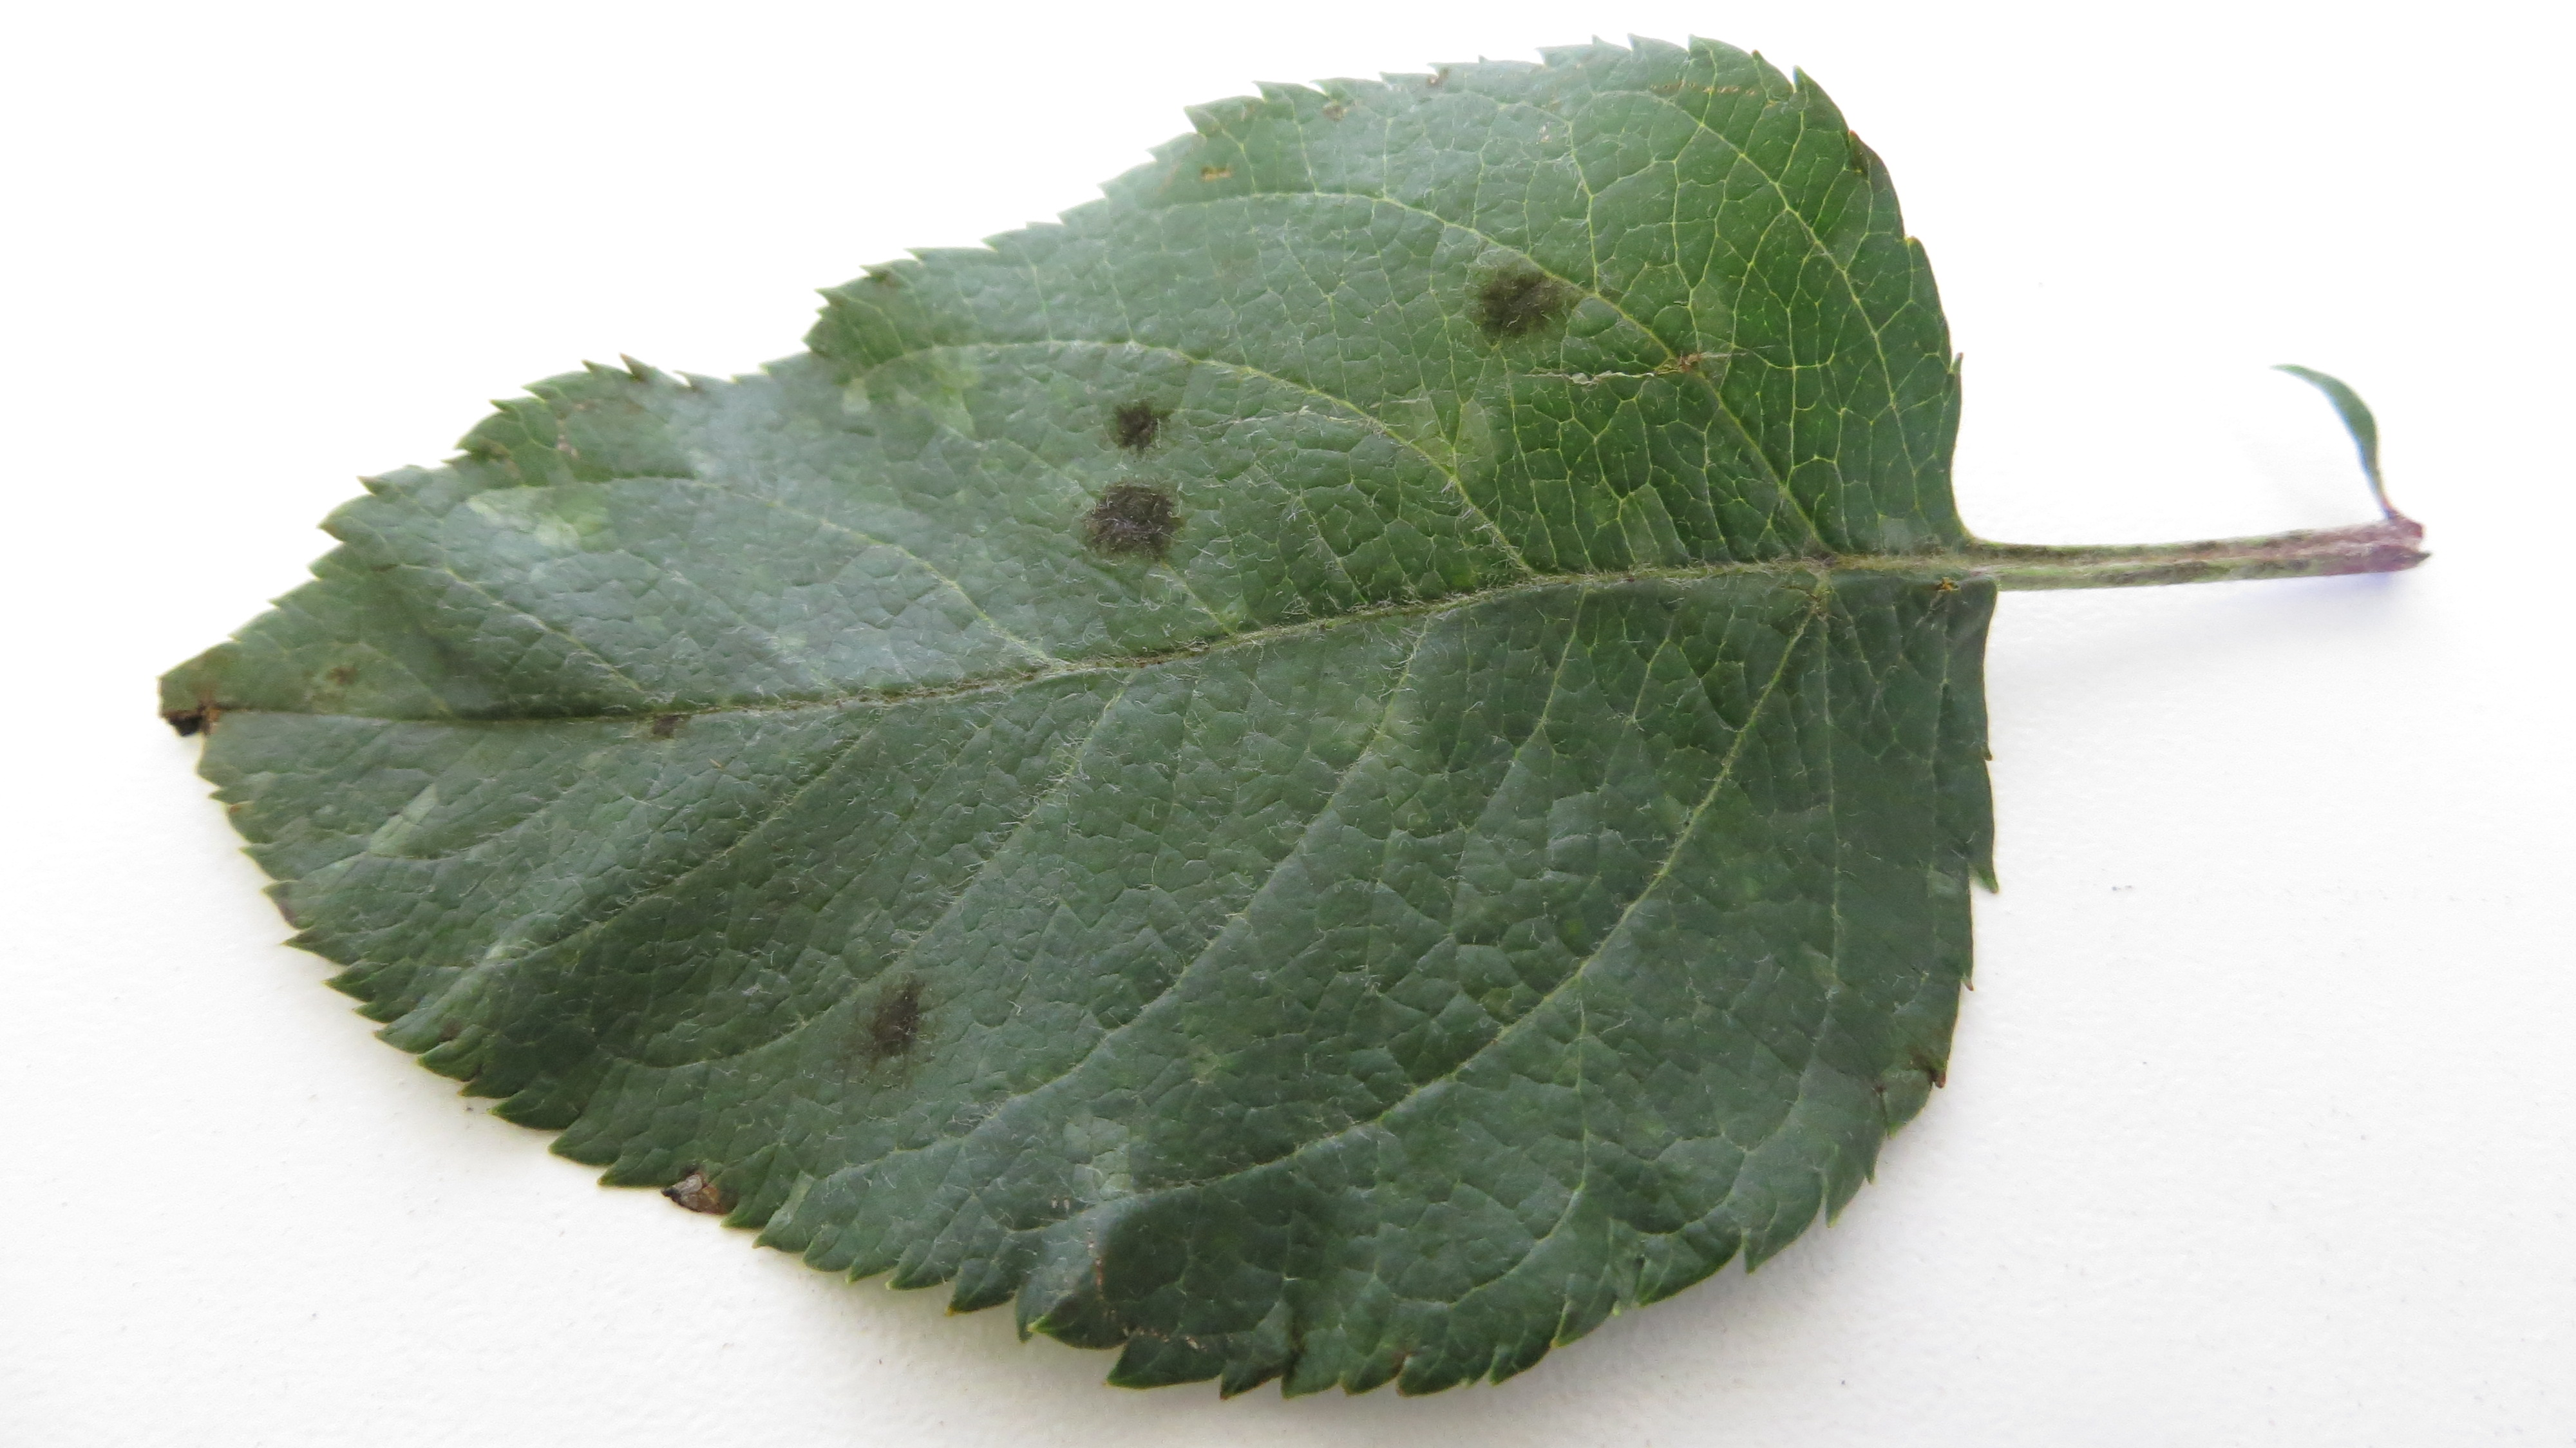sarna: (1444, 239, 1578, 358), (1079, 464, 1191, 577), (842, 958, 939, 1076), (1085, 384, 1178, 462)
